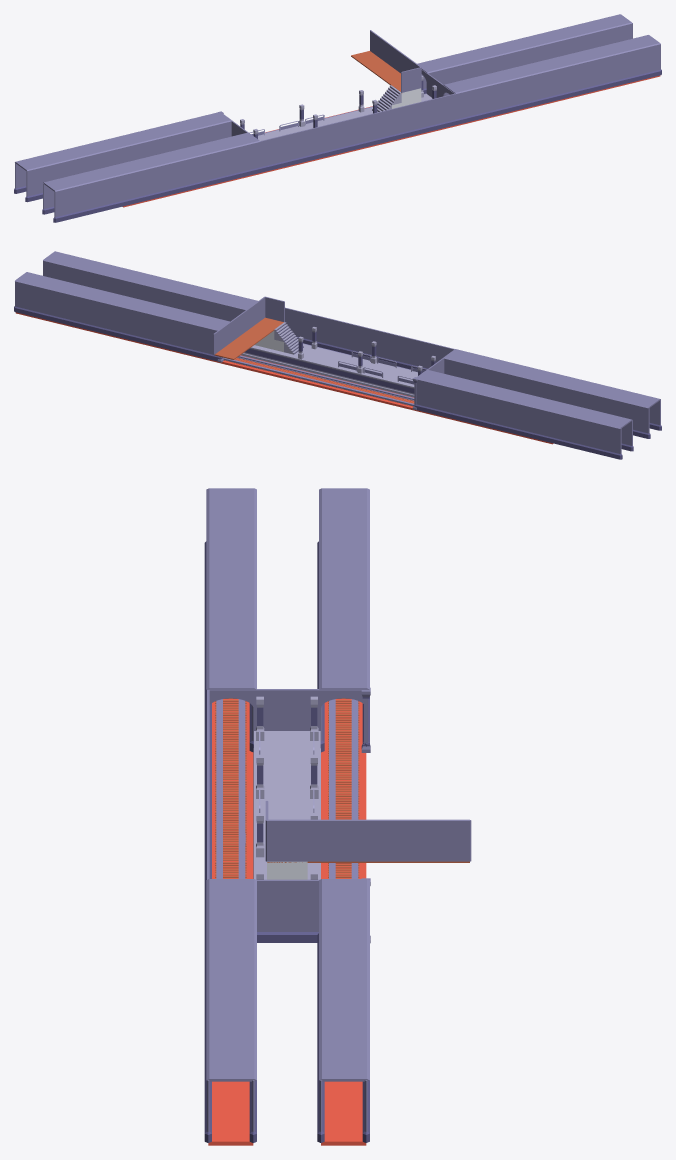
File: clark.glb
3 renders of one model, top to bottom at view 1: azimuth 30°, elevation 25°; view 2: azimuth 150°, elevation 25°; view 3: azimuth 270°, elevation 25°, orthographic. The views are drawn at different scales.
Visible parts, largest first — view 1: wall (×15), wall_baseWideHigh (×6), open_block, porch_floorCenter, floor_side; view 2: wall (×15), wall_baseWideHigh (×6), floor_side (×2), open_block, track_mineBasicStraight, porch_floorCenter, floor; view 3: wall (×9), open_block (×2), floor_side (×2), track_mineBasicStraight (×2), floor.
Boxes of the visible parts, left/top/right/bottom form: wall (×15): left=15, top=14, right=660, bottom=209; wall_baseWideHigh (×6): left=74, top=69, right=645, bottom=217; open_block: left=122, top=75, right=660, bottom=207; porch_floorCenter: left=351, top=51, right=400, bottom=91; floor_side: left=258, top=94, right=431, bottom=139; wall (×15): left=15, top=251, right=660, bottom=446; wall_baseWideHigh (×6): left=30, top=306, right=601, bottom=454; floor_side (×2): left=241, top=344, right=417, bottom=397; open_block: left=15, top=312, right=553, bottom=444; track_mineBasicStraight: left=223, top=355, right=414, bottom=405; porch_floorCenter: left=214, top=317, right=283, bottom=359; floor: left=296, top=349, right=416, bottom=380; wall (×9): left=206, top=488, right=471, bottom=1081; open_block (×2): left=208, top=699, right=366, bottom=1145; floor_side (×2): left=253, top=731, right=320, bottom=879; track_mineBasicStraight (×2): left=216, top=699, right=358, bottom=878; floor: left=276, top=731, right=298, bottom=819.
Bounding box in the file's own units: 62.33 × 5.2 × 11.83.
